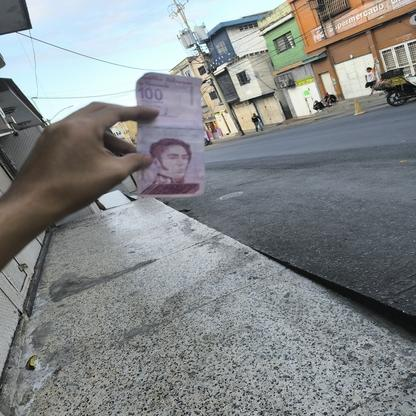one_hundred-front-vef: (135, 70, 203, 198)
